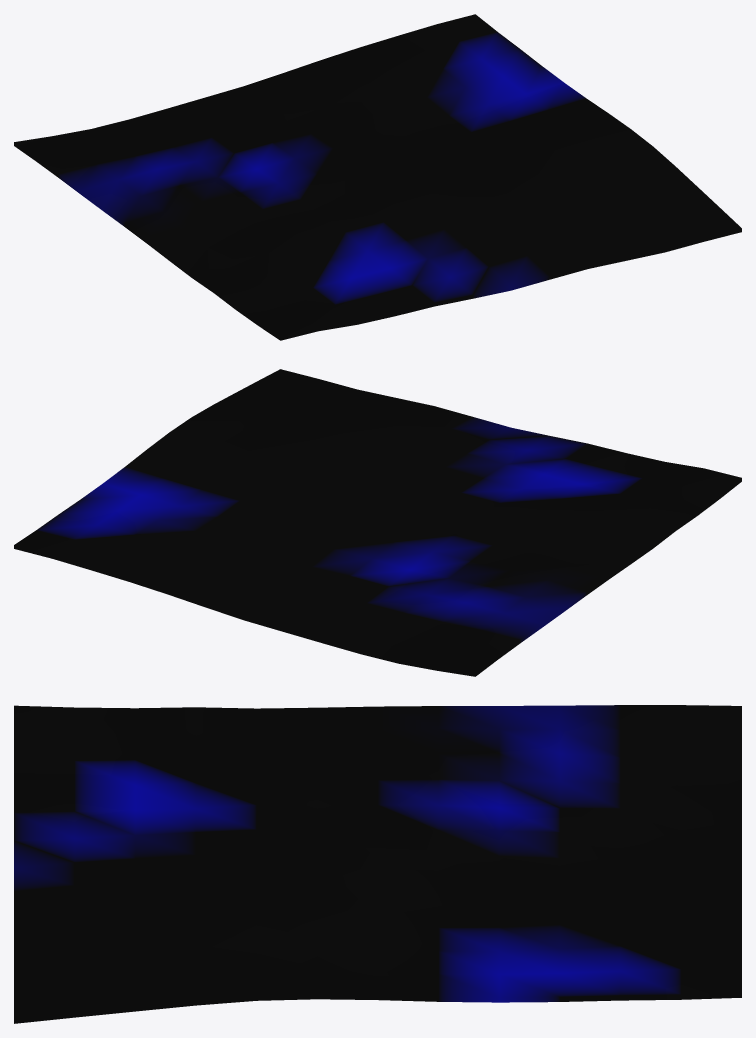
Rendered from coast_10_3.glb.
3 views of the same model, one above another, from view 1: azimuth 30°, elevation 25°; view 2: azimuth 150°, elevation 25°; view 3: azimuth 270°, elevation 25° (orthographic). The views are drawn at different scales.
Parts seen in each view (by area): view 1: terrain; view 2: terrain; view 3: terrain.
Part boxes in pixels (<box>): terrain: <box>14,14,741,340</box>; terrain: <box>14,369,741,676</box>; terrain: <box>14,705,741,1023</box>.
Size of the model in its own units: 192 by 9.97 by 192.
